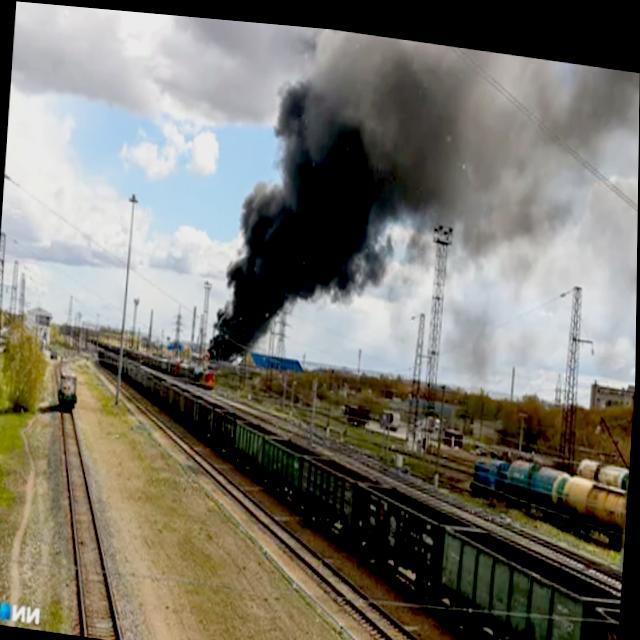no_helmet: (205, 15, 481, 385)
